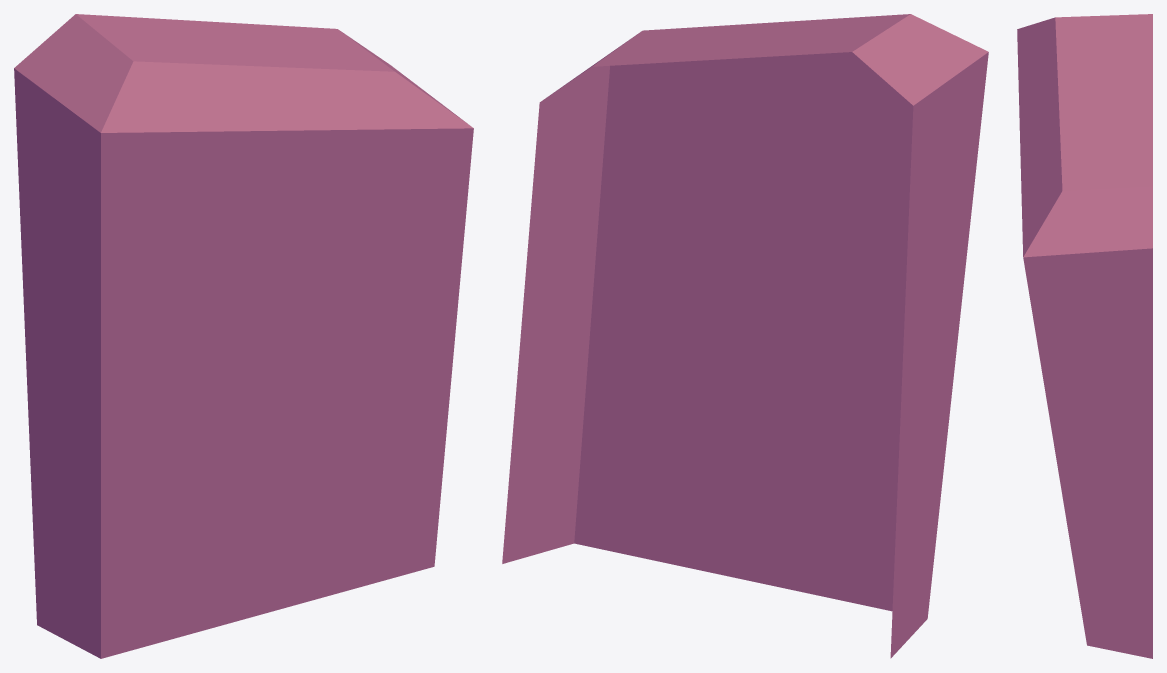
Rendered from Module_Rock_Mesh_06_v01.fbx.
3 renders of one model, left to right at view 1: azimuth 30°, elevation 25°; view 2: azimuth 150°, elevation 25°; view 3: azimuth 270°, elevation 25°, orthographic. The views are drawn at different scales.
Parts seen in each view (by area): view 1: Module_Rock_Mesh_06_v01; view 2: Module_Rock_Mesh_06_v01; view 3: Module_Rock_Mesh_06_v01.
Boxes of the visible parts, x1,y1,x2,y2 form: Module_Rock_Mesh_06_v01: (14,14,473,658); Module_Rock_Mesh_06_v01: (502,14,988,658); Module_Rock_Mesh_06_v01: (1017,14,1152,658).
Size of the model in its own units: 94.94 by 132 by 32.32.
